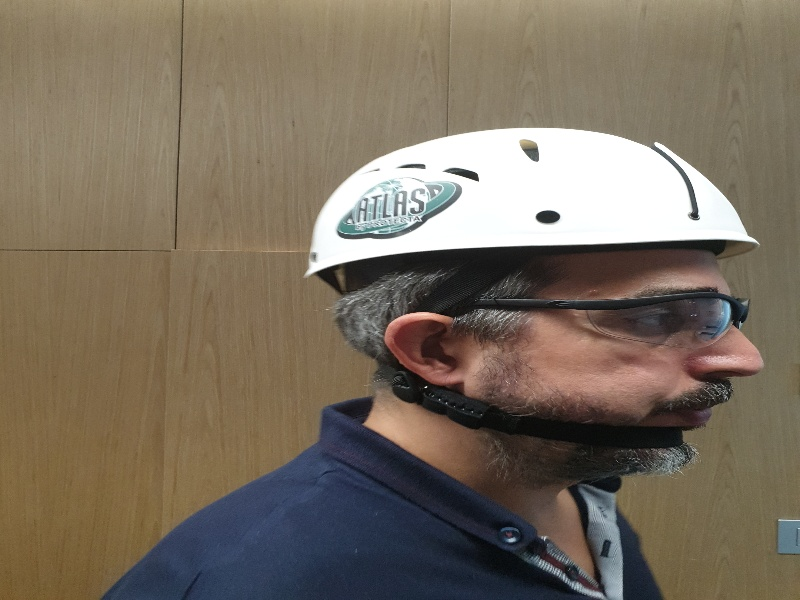Baret: (309, 127, 760, 276)
Gozluk: (405, 291, 750, 354)
